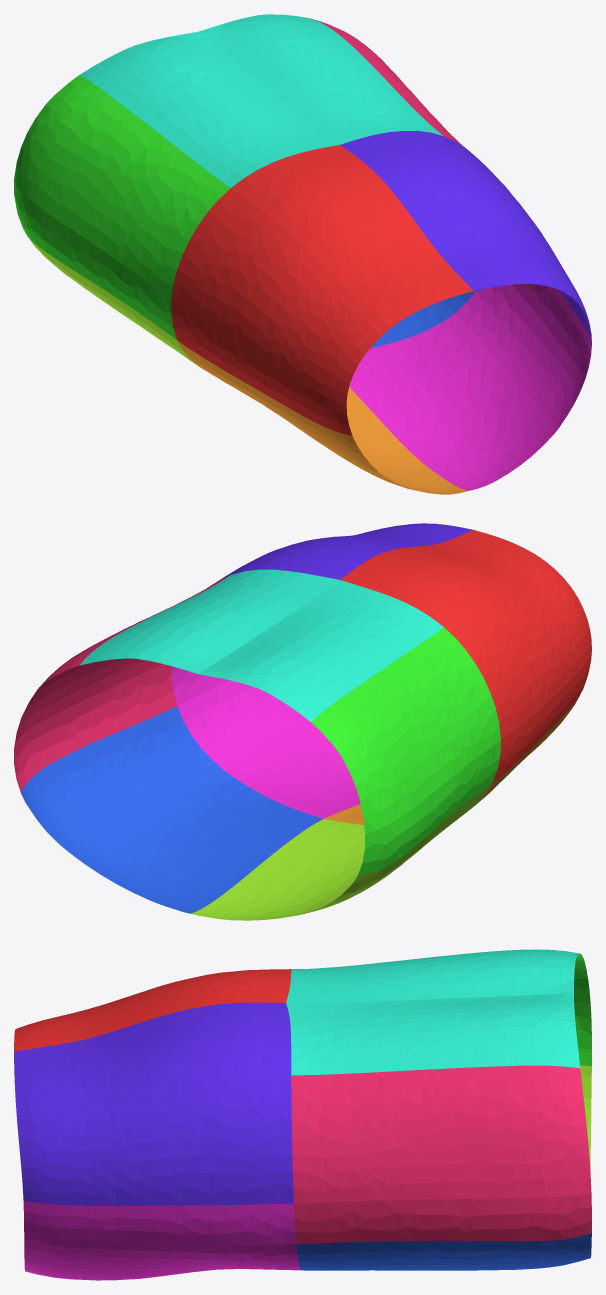
File: longskirt_garmentB.obj
3 views of the same model, one above another, from view 1: azimuth 30°, elevation 25°; view 2: azimuth 150°, elevation 25°; view 3: azimuth 270°, elevation 25° (orthographic).
Parts seen in each view (by area): view 1: longskirt_garmentB; view 2: longskirt_garmentB; view 3: longskirt_garmentB.
Boxes of the visible parts, x1,y1,x2,y2 form: longskirt_garmentB: (14, 14, 591, 494); longskirt_garmentB: (14, 523, 591, 920); longskirt_garmentB: (14, 949, 591, 1280).
Bounding box in the file's own units: 567 × 397 × 751.
